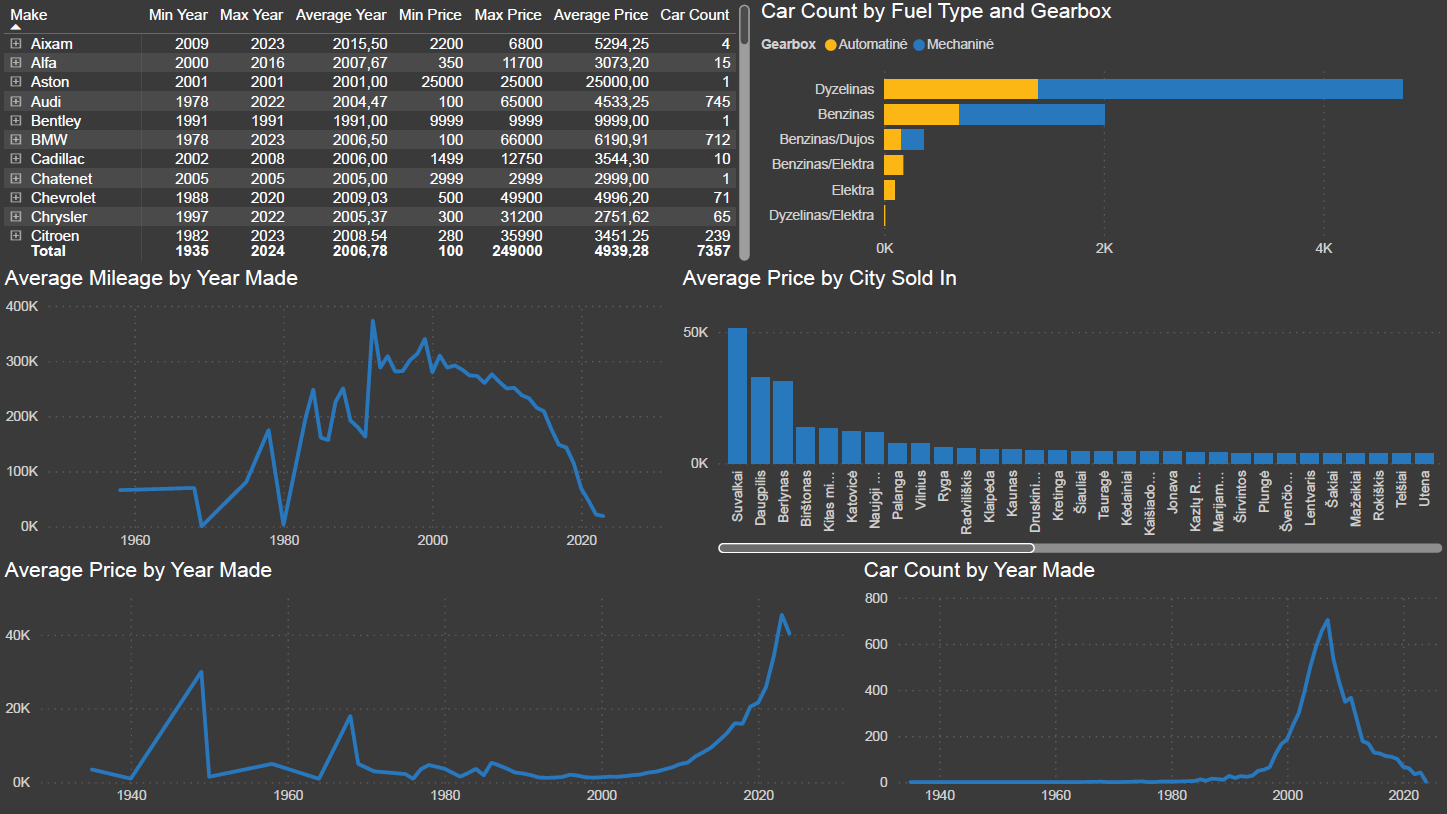

What the dashboard file says about the page in this screenshot:
{"tool":"powerbi","page":{"name":"Autogidas","canvas":[1280,720],"ordinal":0},"visuals":[{"type":"pivotTable","fields":{"Rows":["Data.Make","Data.Model"],"Values":["Min(Data.Year)","Max(Data.Year)1","Avg(Data.Year)2","Min(Data.Price)","Max(Data.Price)","Avg(Data.Price)","CountNonNull(Data.ID)"]},"box":[0,0,668,236],"z":0},{"type":"barChart","title":"Car Count by Fuel Type and Gearbox","fields":{"Category":["Data.Fuel Type"],"Y":["CountNonNull(Data.ID)"],"Series":["Data.Gearbox"]},"box":[668.2,0,611.8,236.4],"z":1000},{"type":"lineChart","title":"Average Mileage by Year Made","fields":{"Y":["Avg(Data.Milage)"],"Category":["Data.Year"]},"box":[0,236.2,599,258],"z":2000},{"type":"clusteredColumnChart","title":"Average Price by City Sold In","fields":{"Category":["Data.City"],"Y":["Avg(Data.Price)"]},"box":[598.8,236.2,681.4,258.1],"z":3000},{"type":"lineChart","title":"Average Price by Year Made","fields":{"Y":["Avg(Data.Price)"],"Category":["Data.Year"]},"box":[0,494.1,759,225.7],"z":4000},{"type":"lineChart","title":"Car Count by Year Made","fields":{"Category":["Data.Made.Variation.Date Hierarchy.Year"],"Y":["CountNonNull(Data.ID)"]},"box":[759,494,521,226],"z":5000}]}

Visuals, with their boxes in screenshot pixels (x1, y1, x2, y2), scaled from the page's 1280x720 canvas onto the 1447x814 screenshot:
pivotTable - Data.Make x Data.Model: Rect(0, 0, 755, 267)
"Car Count by Fuel Type and Gearbox" barChart: Rect(755, 0, 1446, 267)
"Average Mileage by Year Made" lineChart: Rect(0, 267, 677, 559)
"Average Price by City Sold In" clusteredColumnChart: Rect(677, 267, 1446, 559)
"Average Price by Year Made" lineChart: Rect(0, 559, 858, 813)
"Car Count by Year Made" lineChart: Rect(858, 558, 1446, 813)
